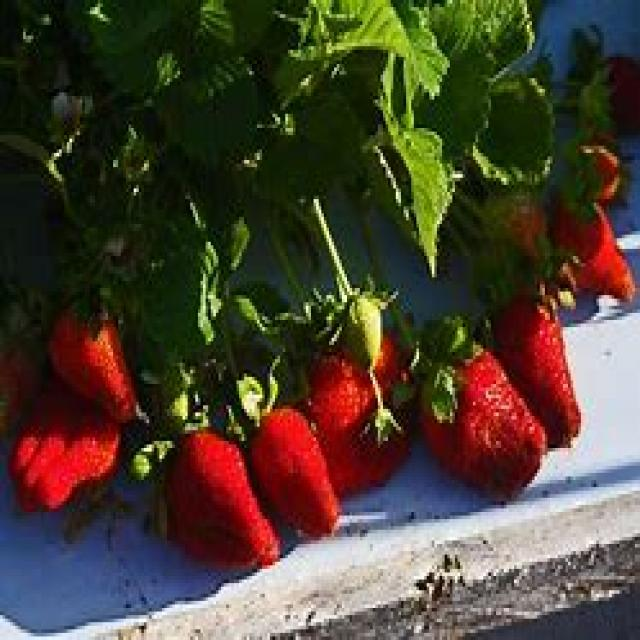Berries strawberries/blueberries: (172, 431, 247, 565), (427, 343, 500, 479), (266, 406, 340, 534)
